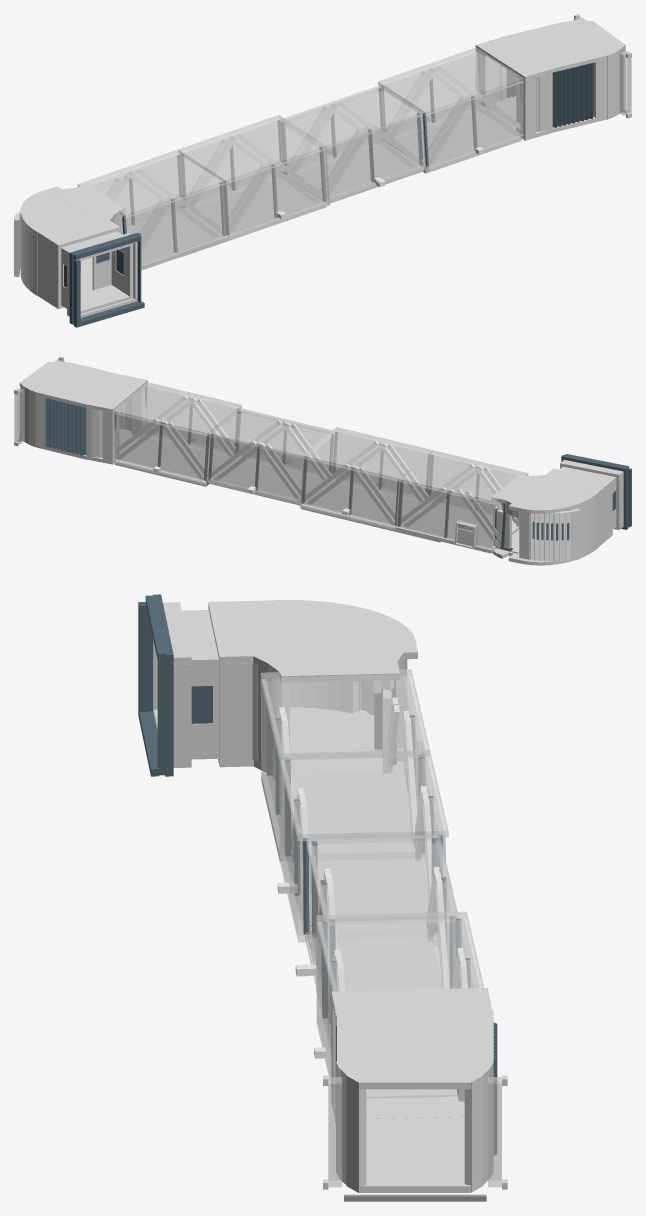
The model's file is airport-jetway3.dae.
3 views of the same model, one above another, from view 1: azimuth 30°, elevation 25°; view 2: azimuth 150°, elevation 25°; view 3: azimuth 270°, elevation 25° (orthographic). The views are drawn at different scales.
Parts seen in each view (by area): view 1: Part340, Part348, Part284, Part332, Part276, Part322, Part314, Part349, Part331, Part275, Part267, Part323 (+30 smaller); view 2: Part323, Part358, Part267, Part305, Part332, Part276, Part314, Part349, Part331, Part275, Part340, Part284 (+40 smaller); view 3: Part332, Part314, Part276, Part349, Part313, Part537, Part331, Part453, Part541, Part236, Part237, Part126 (+26 smaller).
Boxes of the visible parts, x1=… form: Part340: x1=225, y1=149, x2=329, y2=235; Part348: x1=324, y1=113, x2=425, y2=199; Part284: x1=424, y1=81, x2=523, y2=167; Part332: x1=178, y1=115, x2=326, y2=183; Part276: x1=378, y1=47, x2=523, y2=115; Part322: x1=124, y1=183, x2=228, y2=266; Part314: x1=77, y1=149, x2=225, y2=218; Part349: x1=280, y1=85, x2=423, y2=148; Part331: x1=186, y1=177, x2=329, y2=239; Part275: x1=394, y1=109, x2=523, y2=171; Part267: x1=379, y1=52, x2=477, y2=131; Part323: x1=184, y1=119, x2=279, y2=200; Part323: x1=300, y1=458, x2=398, y2=526; Part358: x1=206, y1=434, x2=303, y2=502; Part267: x1=114, y1=413, x2=208, y2=480; Part305: x1=396, y1=480, x2=495, y2=549; Part332: x1=302, y1=427, x2=432, y2=481; Part276: x1=113, y1=382, x2=241, y2=436; Part314: x1=398, y1=450, x2=528, y2=504; Part349: x1=209, y1=408, x2=335, y2=458; Part331: x1=299, y1=478, x2=424, y2=530; Part275: x1=113, y1=435, x2=230, y2=484; Part340: x1=336, y1=430, x2=427, y2=496; Part284: x1=147, y1=386, x2=240, y2=451; Part332: x1=279, y1=750, x2=448, y2=840; Part314: x1=260, y1=669, x2=429, y2=759; Part276: x1=316, y1=911, x2=483, y2=991; Part349: x1=306, y1=835, x2=457, y2=924; Part313: x1=261, y1=771, x2=417, y2=861; Part537: x1=337, y1=1011, x2=493, y2=1061; Part331: x1=279, y1=852, x2=428, y2=942; Part453: x1=314, y1=938, x2=441, y2=990; Part541: x1=366, y1=1117, x2=464, y2=1165; Part236: x1=208, y1=600, x2=294, y2=663; Part237: x1=219, y1=662, x2=252, y2=760; Part126: x1=284, y1=653, x2=399, y2=682.
Size of the model in its own units: 115 by 34.55 by 15.46.
